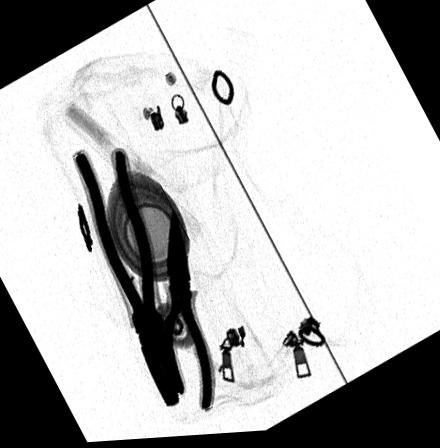Pliers: (70, 146, 179, 410), (158, 205, 214, 416)
